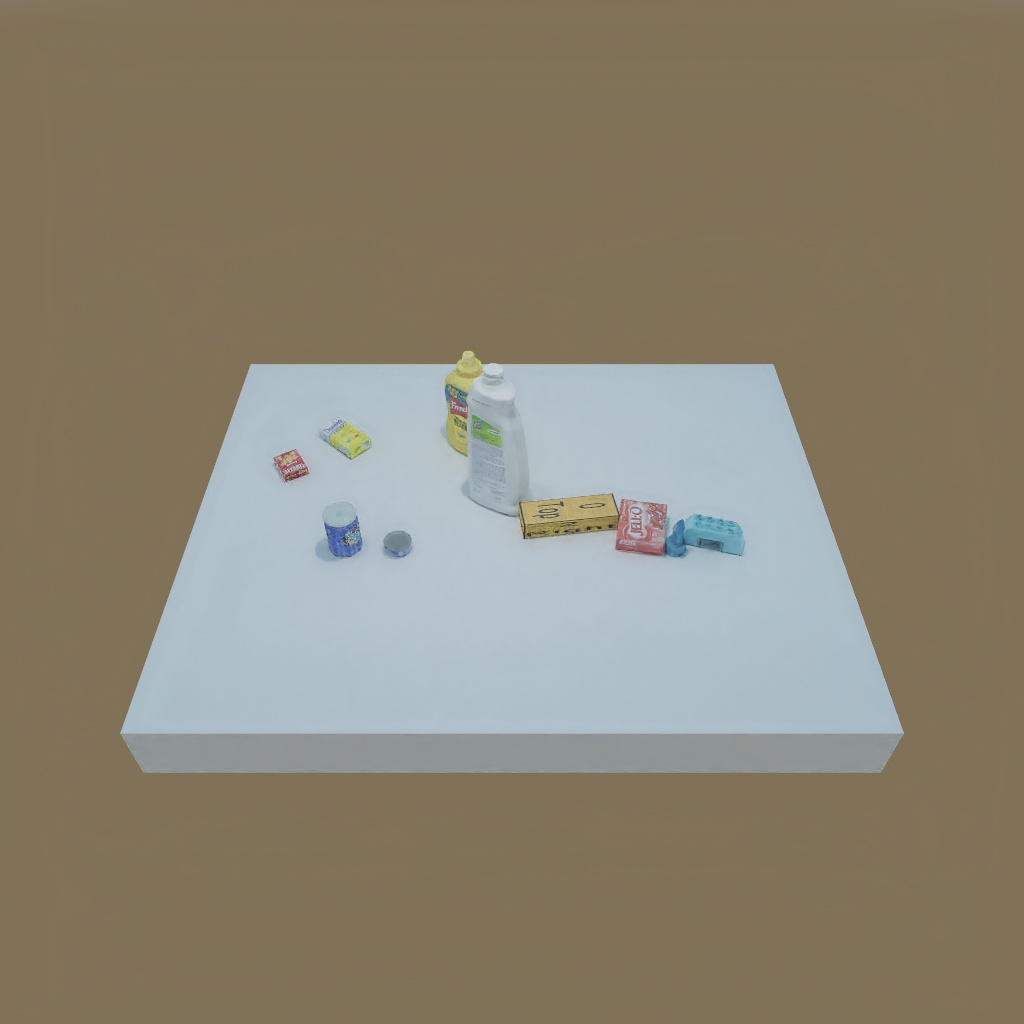gelatin_box: (613, 496, 669, 557)
jenga: (516, 491, 620, 533)
master_chef_can: (320, 499, 364, 562)
mustard_bottle: (438, 350, 482, 454)
